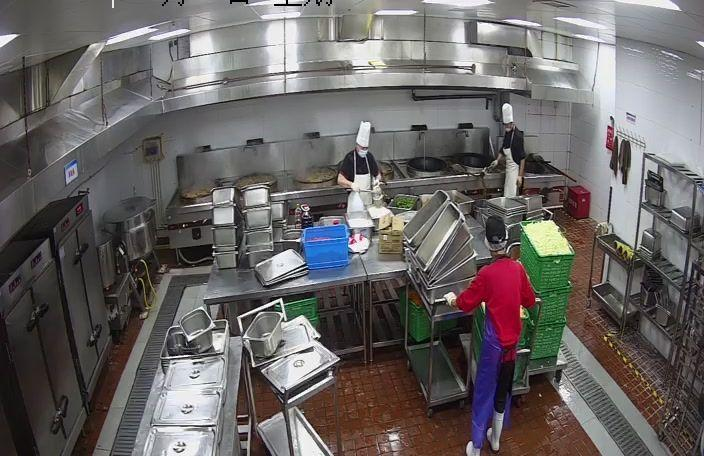apron: (444, 292, 458, 307)
